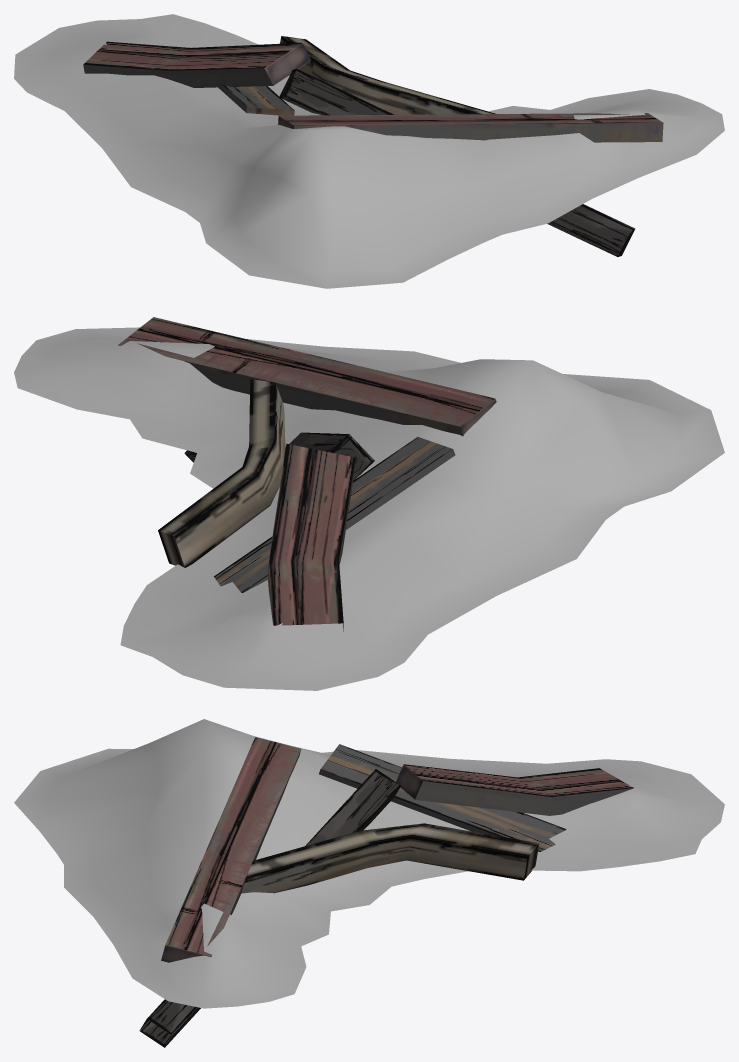
Rendered from RubblePile_Corner.fbx.
3 views of the same model, one above another, from view 1: azimuth 30°, elevation 25°; view 2: azimuth 150°, elevation 25°; view 3: azimuth 270°, elevation 25° (orthographic). The views are drawn at different scales.
Parts seen in each view (by area): view 1: RubblePile_Corner, RChunk_01, RChunk_04, RChunk_03, RChunk_02, RChunk_05; view 2: RubblePile_Corner, RChunk_01, RChunk_04, RChunk_02, RChunk_05, RChunk_03; view 3: RubblePile_Corner, RChunk_02, RChunk_01, RChunk_04, RChunk_05, RChunk_03.
Boxes of the visible parts, left/top/right/bottom form: RubblePile_Corner: left=14, top=14, right=724, bottom=288; RChunk_01: left=278, top=113, right=663, bottom=142; RChunk_04: left=83, top=41, right=311, bottom=87; RChunk_03: left=279, top=68, right=635, bottom=256; RChunk_02: left=280, top=36, right=495, bottom=114; RChunk_05: left=218, top=85, right=294, bottom=115; RubblePile_Corner: left=14, top=327, right=724, bottom=690; RChunk_01: left=118, top=317, right=496, bottom=436; RChunk_04: left=268, top=444, right=355, bottom=631; RChunk_02: left=158, top=379, right=285, bottom=567; RChunk_05: left=214, top=437, right=455, bottom=592; RChunk_03: left=184, top=432, right=374, bottom=480; RubblePile_Corner: left=14, top=719, right=724, bottom=1008; RChunk_02: left=241, top=823, right=539, bottom=893; RChunk_01: left=161, top=737, right=301, bottom=962; RChunk_04: left=396, top=764, right=633, bottom=815; RChunk_05: left=319, top=744, right=566, bottom=851; RChunk_03: left=139, top=769, right=400, bottom=1047.
Bounding box in the file's own units: 15.45 × 5.17 × 17.86.
